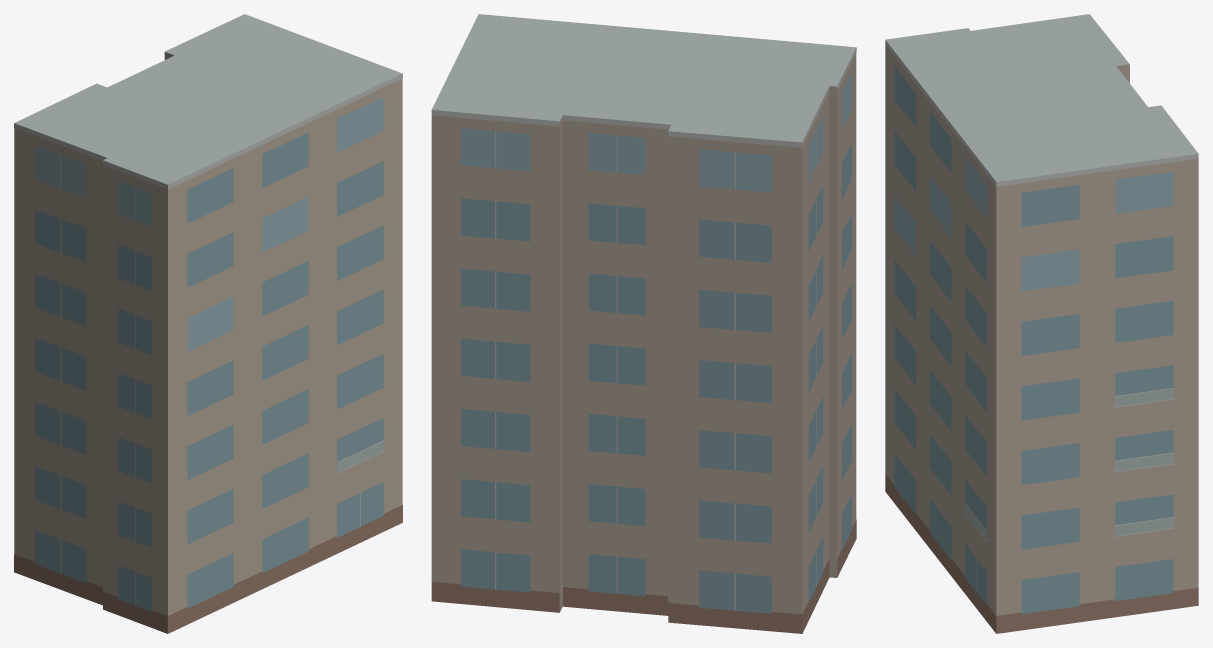
Rendered from survey-upis-32569800.glb.
The picture shows the model from 3 angles, left to right: view 1: azimuth 30°, elevation 25°; view 2: azimuth 150°, elevation 25°; view 3: azimuth 270°, elevation 25°; orthographic projection. The views are drawn at different scales.
Parts seen in each view (by area): view 1: survey-upis-32569800.tmp; view 2: survey-upis-32569800.tmp; view 3: survey-upis-32569800.tmp.
Boxes of the visible parts, bbox=[...] form: survey-upis-32569800.tmp: bbox=[14, 14, 402, 633]; survey-upis-32569800.tmp: bbox=[431, 14, 856, 633]; survey-upis-32569800.tmp: bbox=[885, 14, 1198, 633].
Size of the model in its own units: 18.03 by 22.6 by 14.21.
